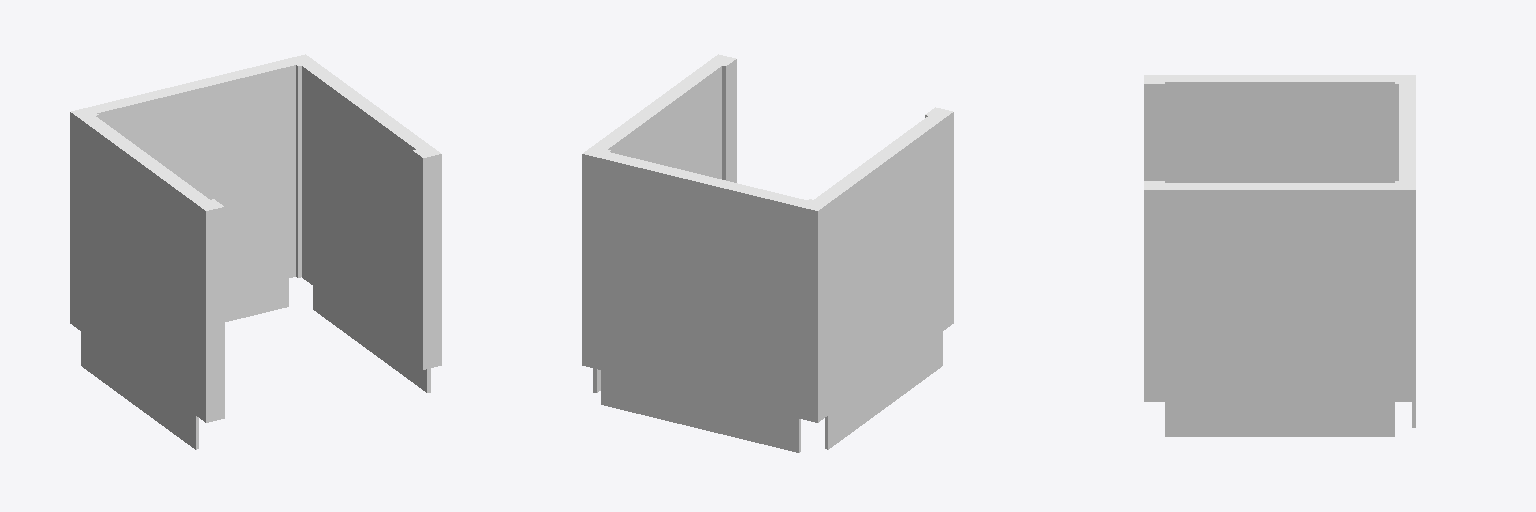
The model's file is Wall-0111.obj.
3 renders of one model, left to right at view 1: azimuth 30°, elevation 25°; view 2: azimuth 150°, elevation 25°; view 3: azimuth 270°, elevation 25°, orthographic.
Size of the model in its own units: 64 by 64 by 64.